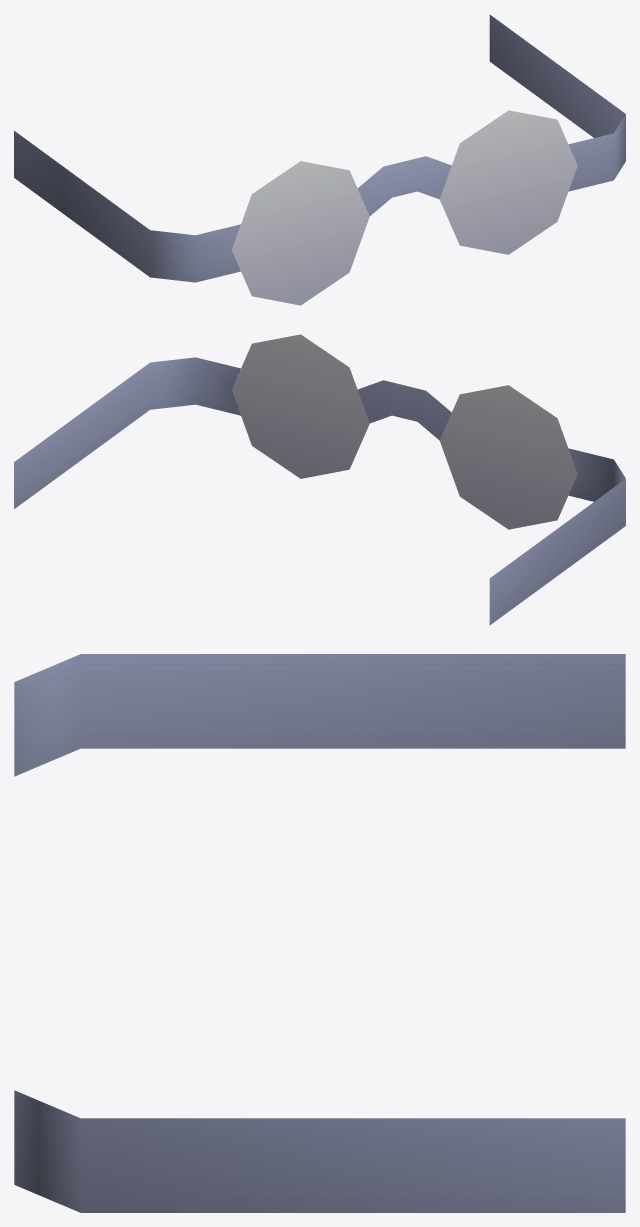
The model's file is aid-glasses.glb.
The picture shows the model from 3 angles, top to bottom: view 1: azimuth 30°, elevation 25°; view 2: azimuth 150°, elevation 25°; view 3: azimuth 270°, elevation 25°; orthographic projection. The views are drawn at different scales.
Parts seen in each view (by area): view 1: aid-glasses; view 2: aid-glasses; view 3: aid-glasses.
Part boxes in pixels (<box>): aid-glasses: <box>14,14,625,305</box>; aid-glasses: <box>14,334,625,625</box>; aid-glasses: <box>14,654,625,1212</box>.
Size of the model in its own units: 0.33 by 0.0958 by 0.1836.
Materials: 1 (1 with a texture image).
